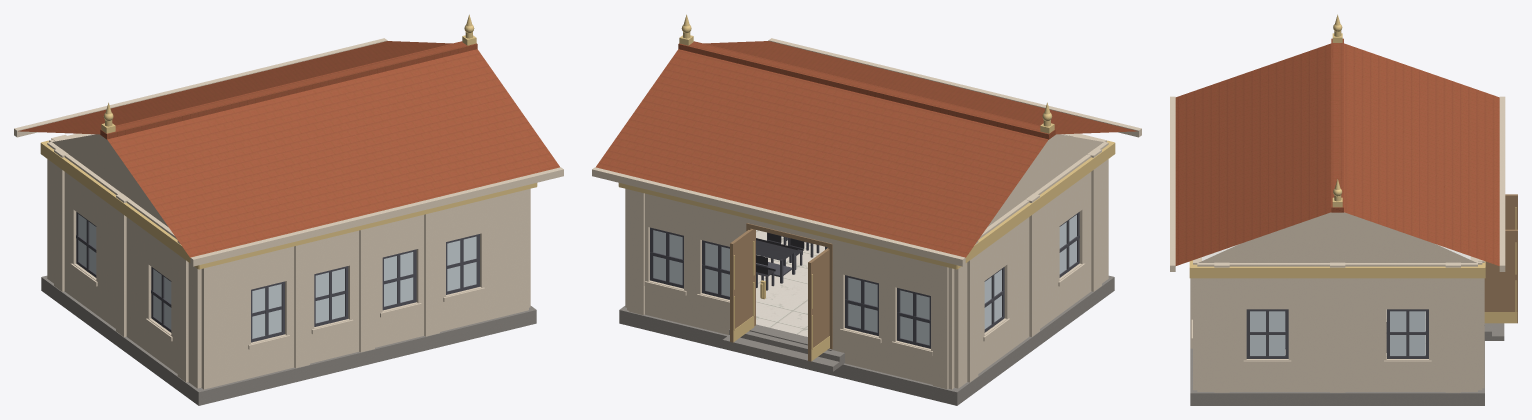
The model's file is gedung-kantin-v3.glb.
3 views of the same model, side by side, from view 1: azimuth 30°, elevation 25°; view 2: azimuth 150°, elevation 25°; view 3: azimuth 270°, elevation 25° (orthographic). The views are drawn at different scales.
Parts seen in each view (by area): view 1: AtapN, GableE, Ambang, Etal_KacaD, BeltE, Burner0; view 2: AtapN, GableE, Ambang, Etal_KacaD, BeltE, KusenAtas, Burner0, Lantai, Dapur_Top; view 3: AtapN, GableE, BeltE, Ambang, Etal_KacaD, KusenAtas, Burner0.
Boxes of the visible parts, bbox=[...] form: AtapN: bbox=[18, 41, 559, 257]; GableE: bbox=[14, 38, 563, 389]; Ambang: bbox=[41, 275, 536, 405]; Etal_KacaD: bbox=[78, 214, 476, 338]; BeltE: bbox=[40, 14, 537, 269]; Burner0: bbox=[76, 212, 479, 342]; AtapN: bbox=[596, 41, 1137, 257]; GableE: bbox=[592, 38, 1141, 389]; Ambang: bbox=[619, 275, 1114, 405]; Etal_KacaD: bbox=[653, 214, 1076, 345]; BeltE: bbox=[618, 14, 1115, 361]; KusenAtas: bbox=[730, 223, 832, 361]; Burner0: bbox=[650, 212, 1079, 348]; Lantai: bbox=[756, 230, 824, 336]; Dapur_Top: bbox=[756, 232, 812, 276]; AtapN: bbox=[1175, 38, 1499, 265]; GableE: bbox=[1170, 96, 1505, 392]; BeltE: bbox=[1189, 14, 1517, 323]; Ambang: bbox=[1190, 323, 1504, 405]; Etal_KacaD: bbox=[1250, 311, 1425, 355]; KusenAtas: bbox=[1484, 194, 1517, 323]; Burner0: bbox=[1246, 309, 1428, 358].
Bounding box in the file's own units: 11.4 × 7.33 × 9.92.
Materials: 10 (5 with a texture image).
